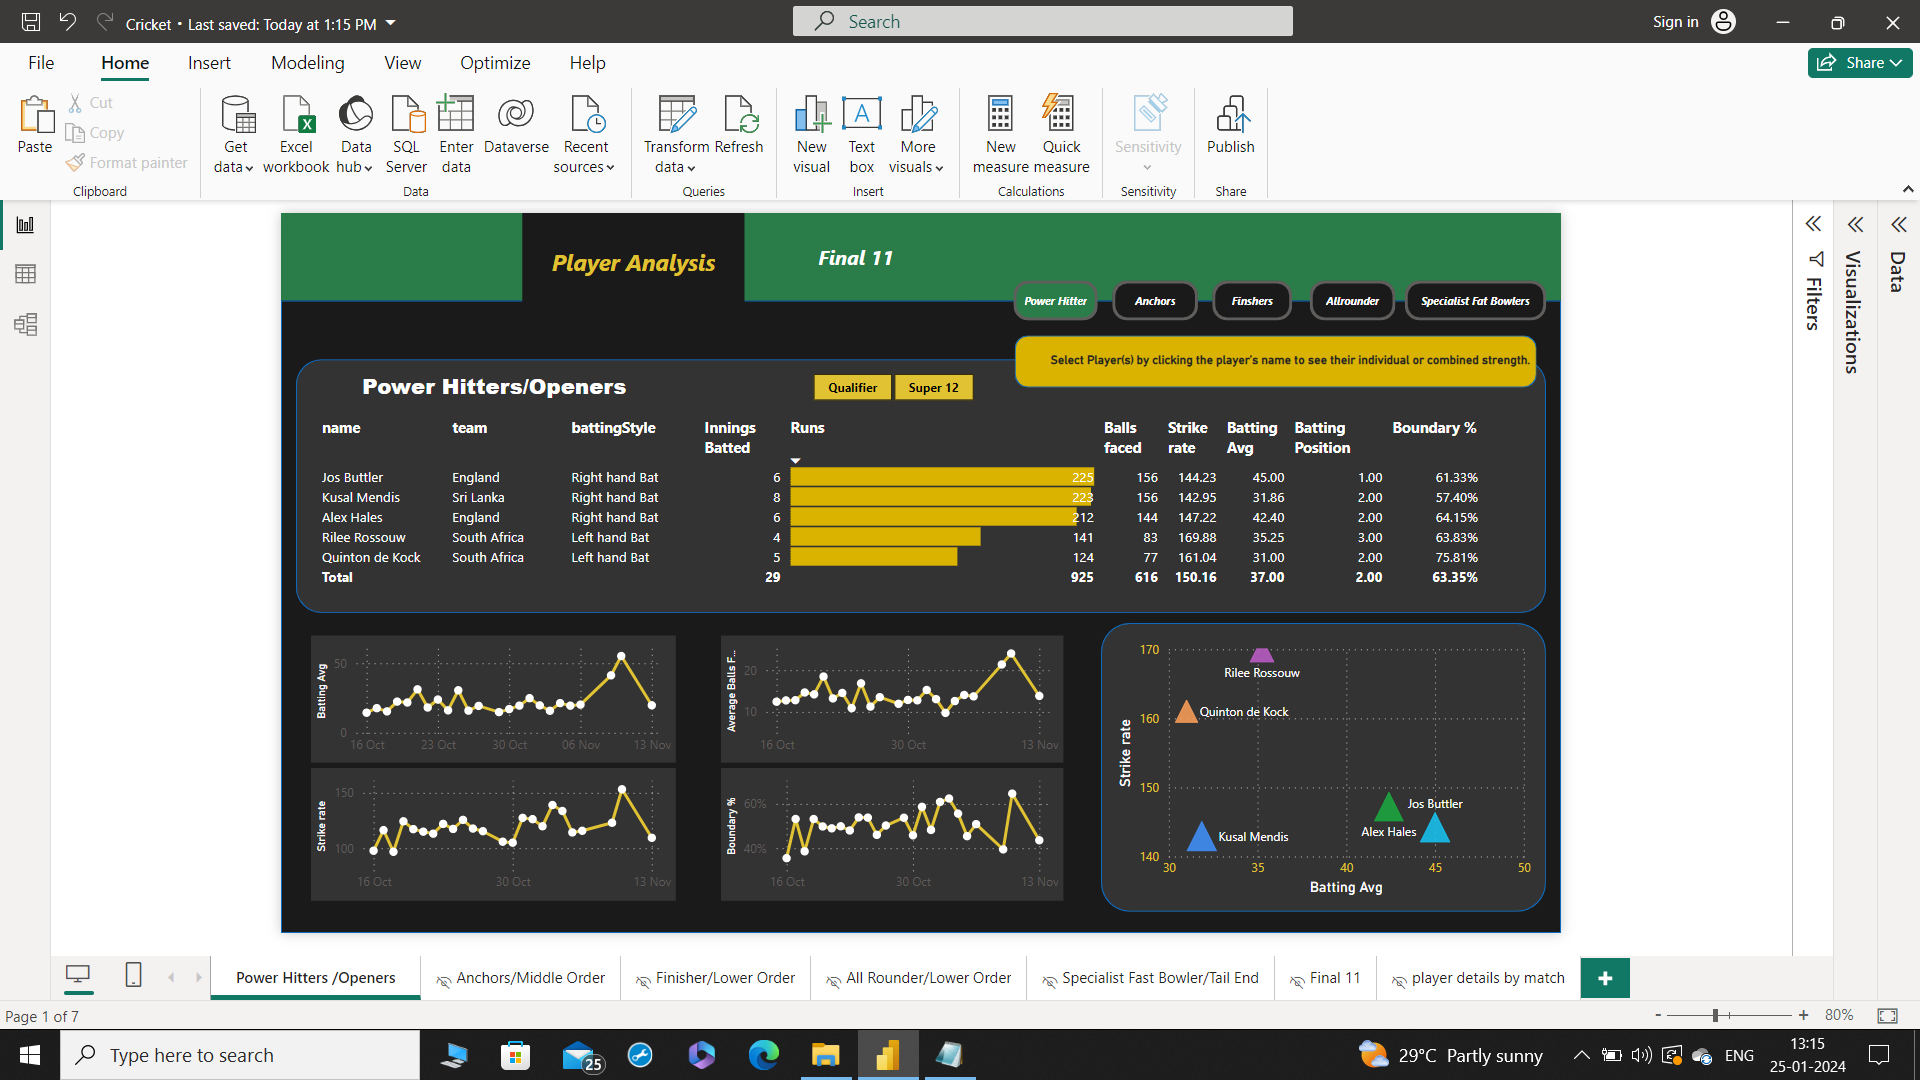

The page's visual inventory and layout, read from the dashboard file:
{"tool":"powerbi","page":{"name":"Power Hitters /Openers","canvas":[1280,720],"ordinal":0},"visuals":[{"type":"shape","box":[0,87.5,1280,632.5],"z":0},{"type":"lineChart","fields":{"Y":["Key Measures.Batting Avg"],"Category":["dim_match_summary.matchDate"]},"box":[30,422.5,365,127.5],"z":1000},{"type":"lineChart","fields":{"Y":["Key Measures.Strike rate"],"Category":["dim_match_summary.matchDate"]},"box":[30,555,365,132.5],"z":2000},{"type":"lineChart","fields":{"Y":["Key Measures.Boundary %"],"Category":["dim_match_summary.matchDate"]},"box":[440,555,342.5,132.5],"z":3000},{"type":"lineChart","fields":{"Y":["Key Measures.Average Balls Faced"],"Category":["dim_match_summary.matchDate"]},"box":[440,422.5,342.5,127.5],"z":4000},{"type":"actionButton","box":[241.2,0,222.5,96.2],"z":5000},{"type":"shape","box":[820,410,445,288.8],"z":6000},{"type":"actionButton","box":[463.8,0,222.5,87.5],"z":7000},{"type":"actionButton","box":[732.9,67.1,84.3,40],"z":8000},{"type":"shape","box":[15,146.2,1250,253.8],"z":9000},{"type":"actionButton","box":[831.7,67.5,85.8,40],"z":10000},{"type":"actionButton","box":[931.4,67.1,80,40],"z":11000},{"type":"actionButton","box":[1124.3,67.1,141.4,40],"z":12000},{"type":"tableEx","title":"Shortlisted Based On Criteria","fields":{"Values":["dim_players.name","dim_players.team","dim_players.battingStyle","Key Measures.Total Innings Batted","Key Measures.Total Runs","Key Measures.total balls faced","Key Measures.Strike rate","Key Measures.Batting Avg","Key Measures.Batting Position","Key Measures.Boundary %"]},"box":[30,197.5,1180,188.8],"z":13000},{"type":"slicer","fields":{"Values":["dim_match_summary.stage"]},"box":[506.7,153.3,210,40.8],"z":14000},{"type":"scatterChart","fields":{"X":["Key Measures.Batting Avg"],"Y":["Key Measures.Strike rate"],"Category":["dim_players.name"],"Series":["dim_players.name"],"Size":["Key Measures.Total Runs"]},"box":[831.2,422.5,423.8,265],"z":15000},{"type":"textbox","box":[55.7,152.9,314.3,45.7],"z":16000},{"type":"actionButton","box":[1028.6,67.1,85.7,40],"z":17000},{"type":"shape","box":[733.1,122.5,521.9,51.9],"z":18000},{"type":"textbox","title":"Combined Strength","box":[755,137.5,162.5,21.2],"z":19000},{"type":"card","fields":{"Values":["Key Measures.Batting Avg"]},"box":[940,122.1,62.9,51.4],"z":20000},{"type":"card","fields":{"Values":["Key Measures.Strike rate"]},"box":[1008.6,122.1,62.9,51.4],"z":21000},{"type":"card","fields":{"Values":["Key Measures.Average Balls Faced"]},"box":[1077.1,122.9,62.9,51.4],"z":22000},{"type":"card","fields":{"Values":["Key Measures.Boundary %"]},"box":[1147.1,122.1,68.6,51.4],"z":23000},{"type":"card","fields":{"Values":["Key Measures.Display Text"]},"box":[762.5,132.5,493.8,32.5],"z":24000}]}

Visuals, with their boxes on the page's 1280x720 design canvas (x1, y1, x2, y2). These are canvas units, not pixel positions in the 1920x1080 screenshot, which may show the page scaled, cropped or inside an application window:
shape: x1=0, y1=88, x2=1280, y2=720
lineChart - Key Measures.Batting Avg x dim_match_summary.matchDate: x1=30, y1=422, x2=395, y2=550
lineChart - Key Measures.Strike rate x dim_match_summary.matchDate: x1=30, y1=555, x2=395, y2=688
lineChart - Key Measures.Boundary % x dim_match_summary.matchDate: x1=440, y1=555, x2=782, y2=688
lineChart - Key Measures.Average Balls Faced x dim_match_summary.matchDate: x1=440, y1=422, x2=782, y2=550
actionButton: x1=241, y1=0, x2=464, y2=96
shape: x1=820, y1=410, x2=1265, y2=699
actionButton: x1=464, y1=0, x2=686, y2=88
actionButton: x1=733, y1=67, x2=817, y2=107
shape: x1=15, y1=146, x2=1265, y2=400
actionButton: x1=832, y1=68, x2=918, y2=108
actionButton: x1=931, y1=67, x2=1011, y2=107
actionButton: x1=1124, y1=67, x2=1266, y2=107
"Shortlisted Based On Criteria" tableEx: x1=30, y1=198, x2=1210, y2=386
slicer - dim_match_summary.stage: x1=507, y1=153, x2=717, y2=194
scatterChart - Key Measures.Batting Avg x Key Measures.Strike rate: x1=831, y1=422, x2=1255, y2=688
textbox: x1=56, y1=153, x2=370, y2=199
actionButton: x1=1029, y1=67, x2=1114, y2=107
shape: x1=733, y1=122, x2=1255, y2=174
"Combined Strength" textbox: x1=755, y1=138, x2=918, y2=159
card - Key Measures.Batting Avg: x1=940, y1=122, x2=1003, y2=174
card - Key Measures.Strike rate: x1=1009, y1=122, x2=1072, y2=174
card - Key Measures.Average Balls Faced: x1=1077, y1=123, x2=1140, y2=174
card - Key Measures.Boundary %: x1=1147, y1=122, x2=1216, y2=174
card - Key Measures.Display Text: x1=762, y1=132, x2=1256, y2=165
